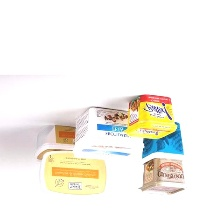plastic_box: (68, 104, 148, 165), (32, 146, 115, 202), (33, 122, 118, 169), (118, 89, 180, 145), (134, 118, 188, 169), (134, 154, 191, 199)
